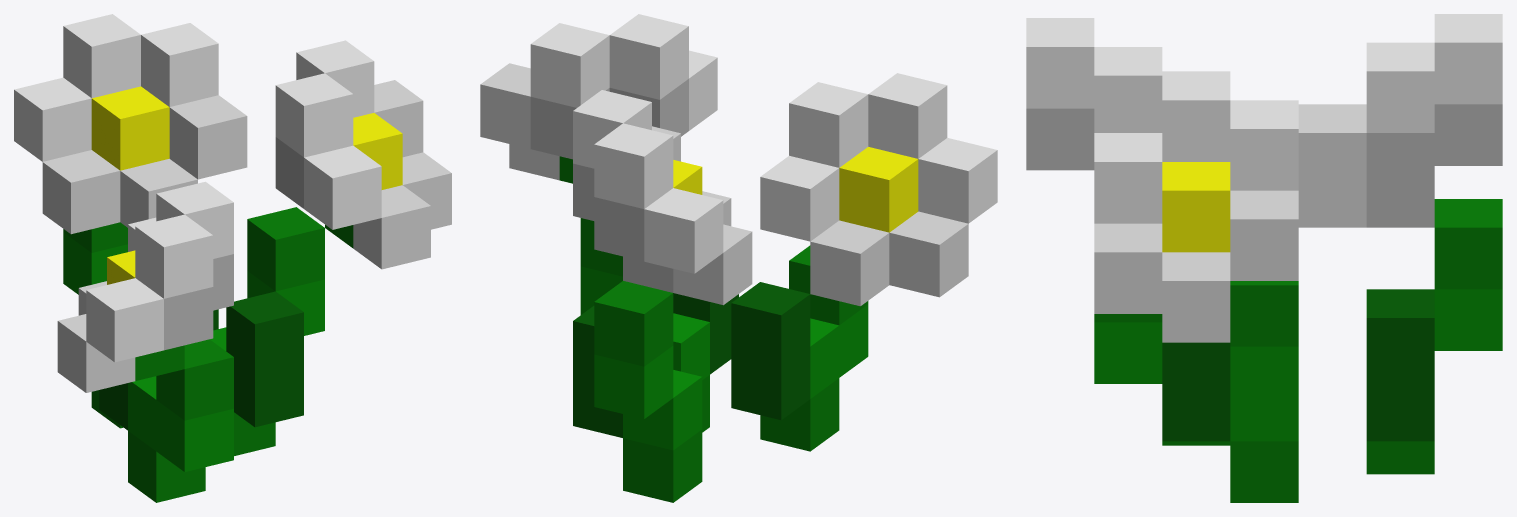
Rendered from flower-2.glb.
3 renders of one model, left to right at view 1: azimuth 30°, elevation 25°; view 2: azimuth 150°, elevation 25°; view 3: azimuth 270°, elevation 25°, orthographic. The views are drawn at different scales.
Parts seen in each view (by area): view 1: Node1; view 2: Node1; view 3: Node1.
Boxes of the visible parts, <box> form: Node1: <box>14,14,451,502</box>; Node1: <box>480,14,997,502</box>; Node1: <box>1026,14,1502,502</box>.
Bounding box in the file's own units: 0.8 × 0.7 × 0.7.
